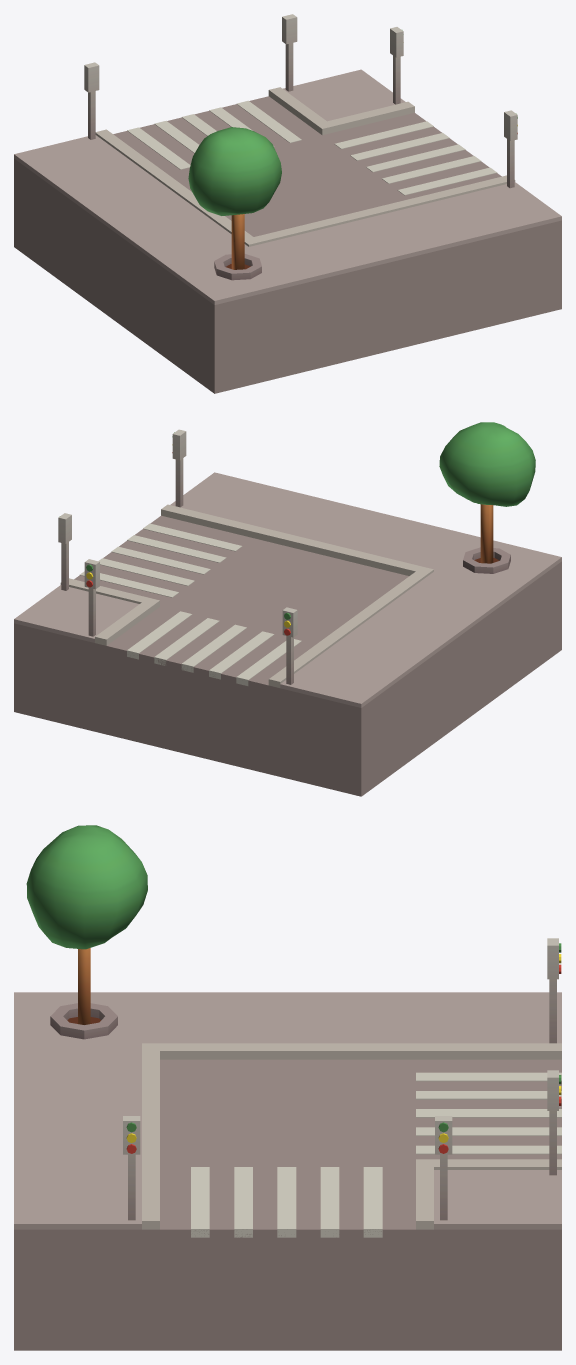
The model's file is Road_90_Degree.fbx.
3 renders of one model, top to bottom at view 1: azimuth 30°, elevation 25°; view 2: azimuth 150°, elevation 25°; view 3: azimuth 270°, elevation 25°, orthographic. The views are drawn at different scales.
Parts seen in each view (by area): view 1: Road_90_Degree; view 2: Road_90_Degree; view 3: Road_90_Degree.
Part boxes in pixels (x1,y1,x2,y2): Road_90_Degree: [14, 14, 561, 393]; Road_90_Degree: [14, 422, 561, 796]; Road_90_Degree: [14, 825, 561, 1350].
Size of the model in its own units: 400 by 254 by 400.
